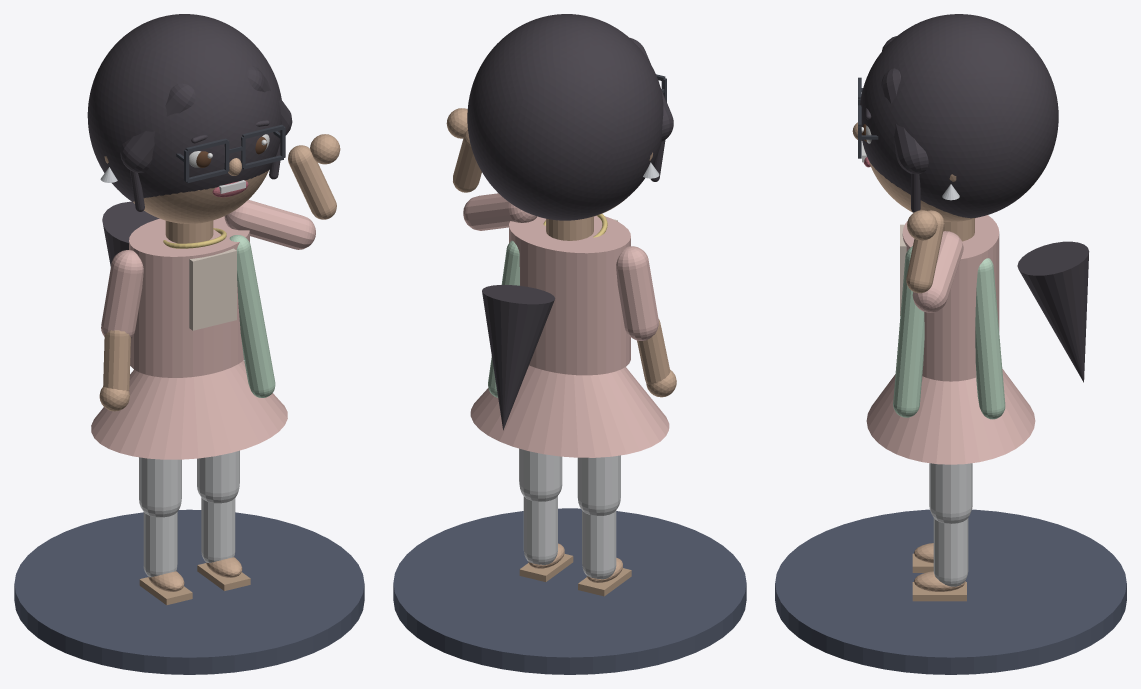
File: simi_3d_model.glb
The picture shows the model from 3 angles, left to right: view 1: azimuth 30°, elevation 25°; view 2: azimuth 150°, elevation 25°; view 3: azimuth 270°, elevation 25°; orthographic projection.
Parts seen in each view (by area): view 1: pedestal, hair_cap, kurti_skirt, torso, dupatta_front, yoke_panel, head, arm_R_upper, arm_L_upper, thigh_L, shin_L, shin_R (+13 smaller); view 2: pedestal, hair_cap, torso, kurti_skirt, ponytail, arm_L_upper, thigh_L, shin_R, shin_L, thigh_R, arm_R_upper, arm_L_lower (+6 smaller); view 3: pedestal, hair_cap, kurti_skirt, torso, ponytail, dupatta_back, dupatta_front, thigh_R, shin_R, arm_R_upper, arm_R_lower, hair_sweep_R (+4 smaller).
Boxes of the visible parts, x1,y1,x2,y2 form: pedestal: (14,509,364,674); hair_cap: (87,14,281,202); kurti_skirt: (91,361,287,459); torso: (129,216,249,377); dupatta_front: (229,235,275,397); yoke_panel: (189,248,236,330); head: (133,170,268,223); arm_R_upper: (224,199,315,249); arm_L_upper: (101,250,143,338); thigh_L: (139,457,181,517); shin_L: (143,512,177,577); shin_R: (201,497,235,562); pedestal: (393,508,746,674); hair_cap: (467,14,663,220); torso: (509,216,630,375); kurti_skirt: (470,365,669,457); ponytail: (482,285,555,430); arm_L_upper: (616,246,658,340); thigh_L: (577,455,620,515); shin_R: (523,496,557,564); shin_L: (582,510,616,579); thigh_R: (519,448,562,501); arm_R_upper: (463,193,536,230); arm_L_lower: (637,319,670,384); pedestal: (775,509,1126,674); hair_cap: (860,14,1058,218); kurti_skirt: (866,369,1035,464); torso: (902,215,999,381); ponytail: (1017,241,1089,382); dupatta_back: (975,258,1005,419); dupatta_front: (893,246,924,417); thigh_R: (929,463,972,523); shin_R: (933,518,968,586); arm_R_upper: (912,231,963,312); arm_R_lower: (906,210,944,293); hair_sweep_R: (881,68,928,173).
Size of the model in its own units: 1.1 by 1.99 by 1.1.
